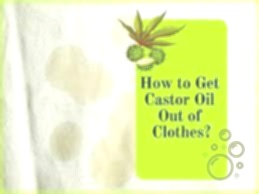oil: (36, 42, 117, 106), (92, 92, 134, 185), (50, 120, 92, 163)
